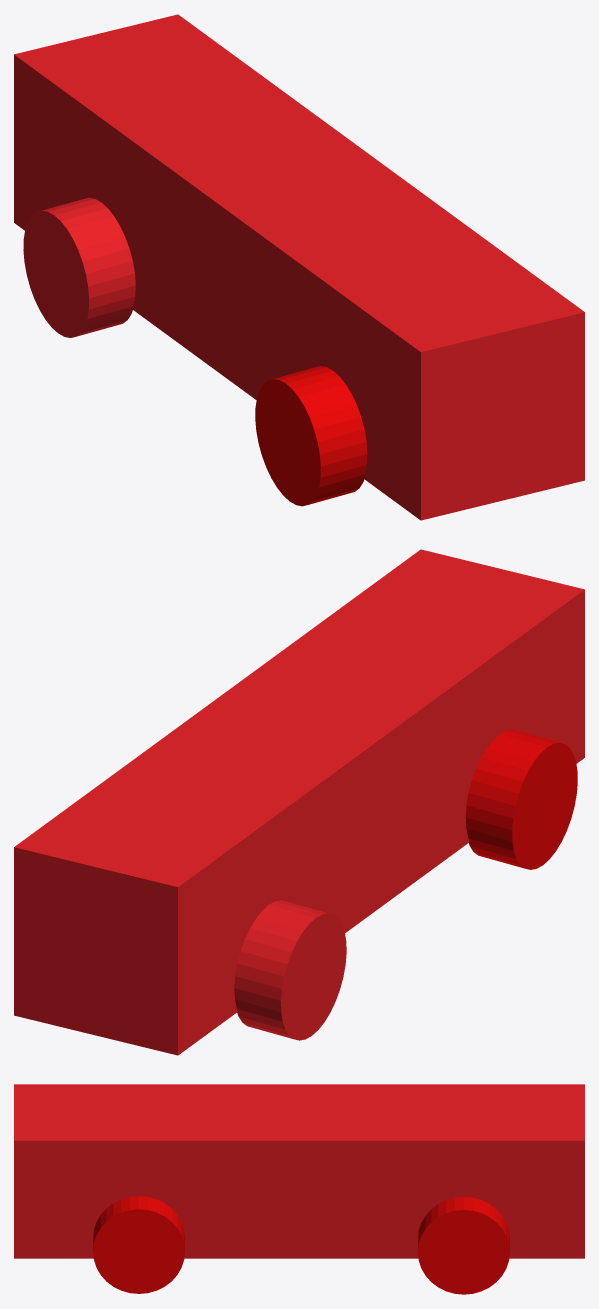
The model's file is basic-redcar.glb.
The picture shows the model from 3 angles, top to bottom: view 1: azimuth 30°, elevation 25°; view 2: azimuth 150°, elevation 25°; view 3: azimuth 270°, elevation 25°; orthographic projection. The views are drawn at different scales.
Visible parts, largest first — view 1: Cube, Cylinder.003, Cylinder.002; view 2: Cube, Cylinder.003, Cylinder.002; view 3: Cube, Cylinder, Cylinder.001.
Part boxes in pixels (x1,y1,x2,y2): Cube: [14, 14, 584, 520]; Cylinder.003: [23, 197, 135, 337]; Cylinder.002: [255, 366, 367, 506]; Cube: [14, 549, 584, 1055]; Cylinder.003: [234, 900, 346, 1040]; Cylinder.002: [465, 729, 577, 869]; Cube: [14, 1084, 584, 1258]; Cylinder: [93, 1196, 184, 1293]; Cylinder.001: [418, 1197, 509, 1294].
Bounding box in the file's own units: 4.54 × 3.41 × 12.4.
